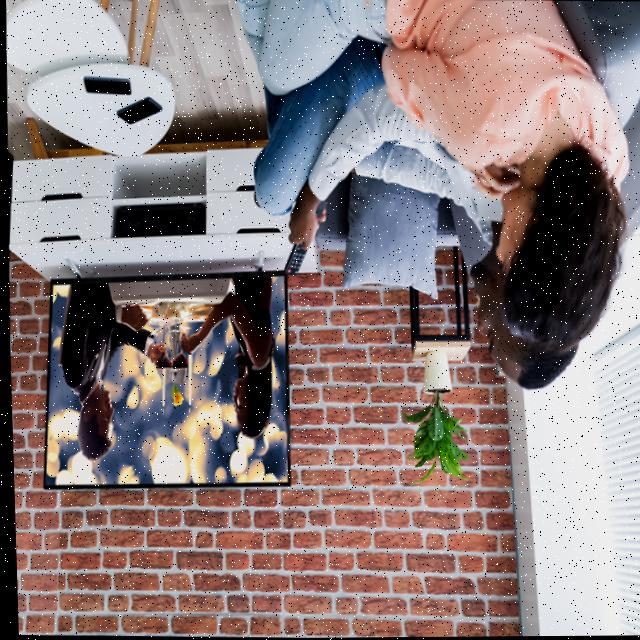tv-person: (17, 0, 634, 522)
